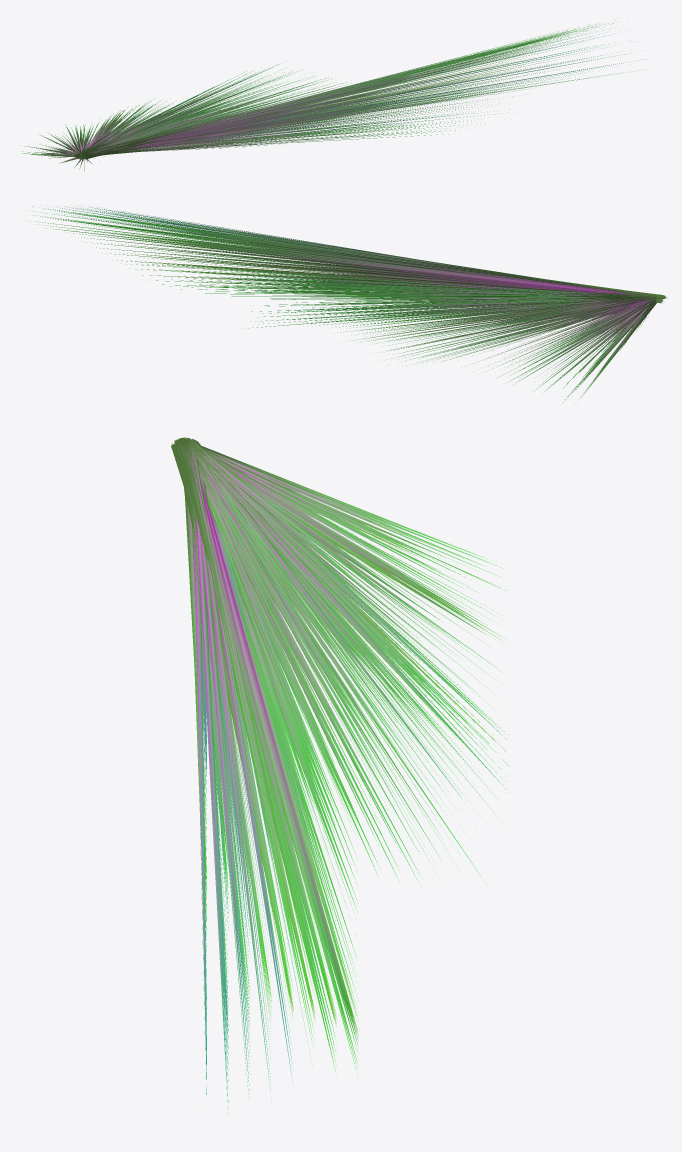
3 renders of one model, top to bottom at view 1: azimuth 30°, elevation 25°; view 2: azimuth 150°, elevation 25°; view 3: azimuth 270°, elevation 25°, orthographic. The views are drawn at different scales.
Visible parts, largest first — view 1: Terrain; view 2: Terrain; view 3: Terrain.
Part boxes in pixels (bbox=[...]): Terrain: bbox=[22, 23, 632, 171]; Terrain: bbox=[31, 206, 667, 402]; Terrain: bbox=[171, 437, 509, 1113].
Bounding box in the file's own units: 63.6 × 8 × 15.68.
